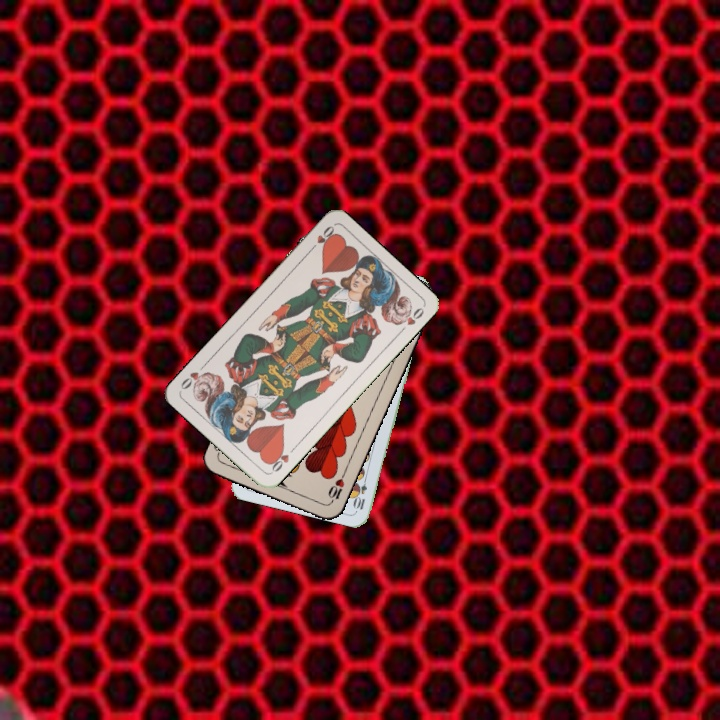E10: (352, 472, 370, 512)
H10: (324, 468, 348, 507)
HO: (265, 443, 298, 476), (305, 221, 337, 255)
